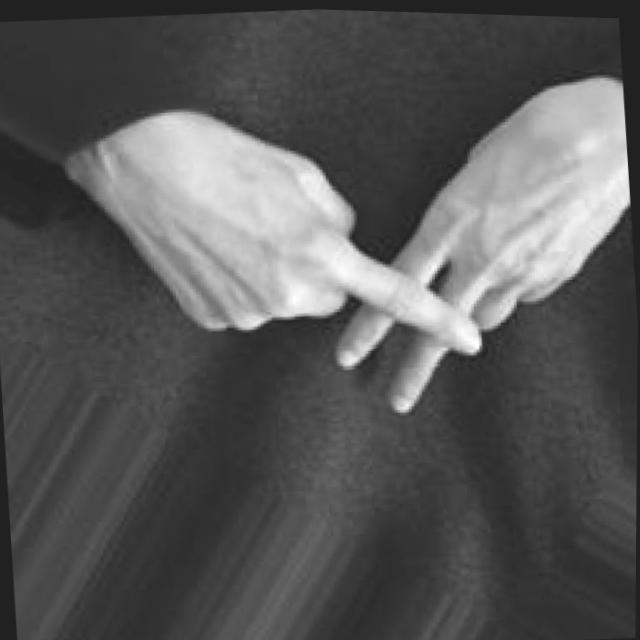A: (81, 52, 640, 448)
